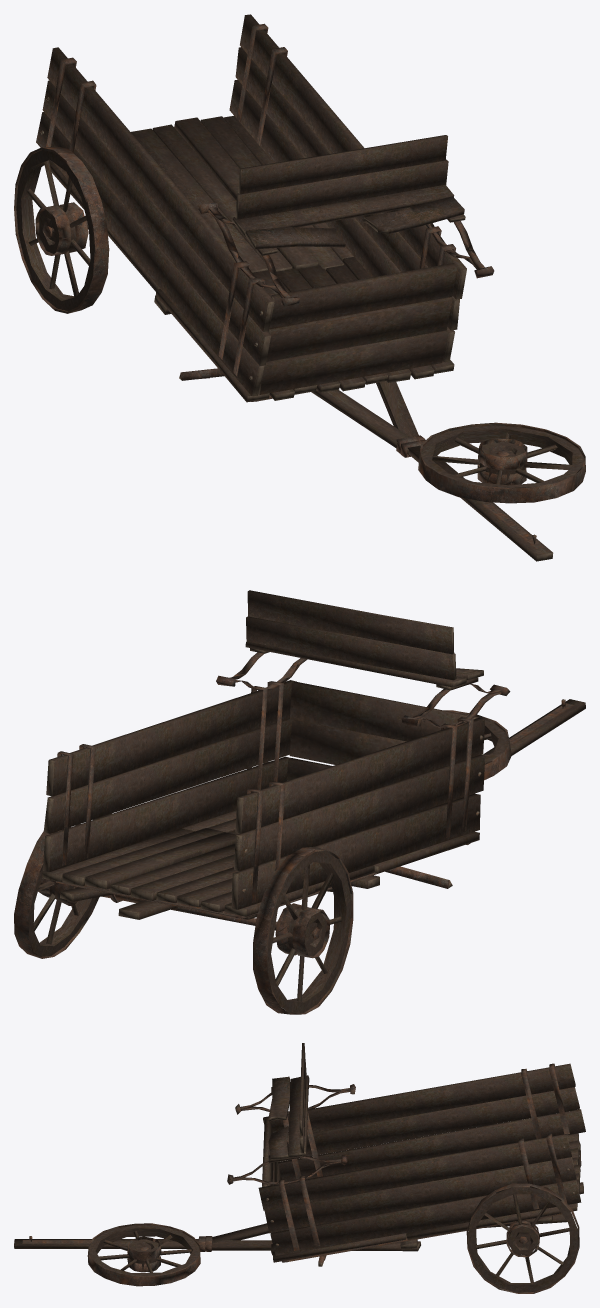
File: cart_broken.fbx
3 views of the same model, one above another, from view 1: azimuth 30°, elevation 25°; view 2: azimuth 150°, elevation 25°; view 3: azimuth 270°, elevation 25° (orthographic). The views are drawn at different scales.
Parts seen in each view (by area): view 1: SM_Cart_Broken; view 2: SM_Cart_Broken; view 3: SM_Cart_Broken.
Boxes of the visible parts, box(x1,y1,x2,y2) form: SM_Cart_Broken: box(14, 14, 585, 561); SM_Cart_Broken: box(14, 590, 585, 1014); SM_Cart_Broken: box(14, 1043, 585, 1293).
Size of the model in its own units: 16.14 by 14.8 by 43.8.
